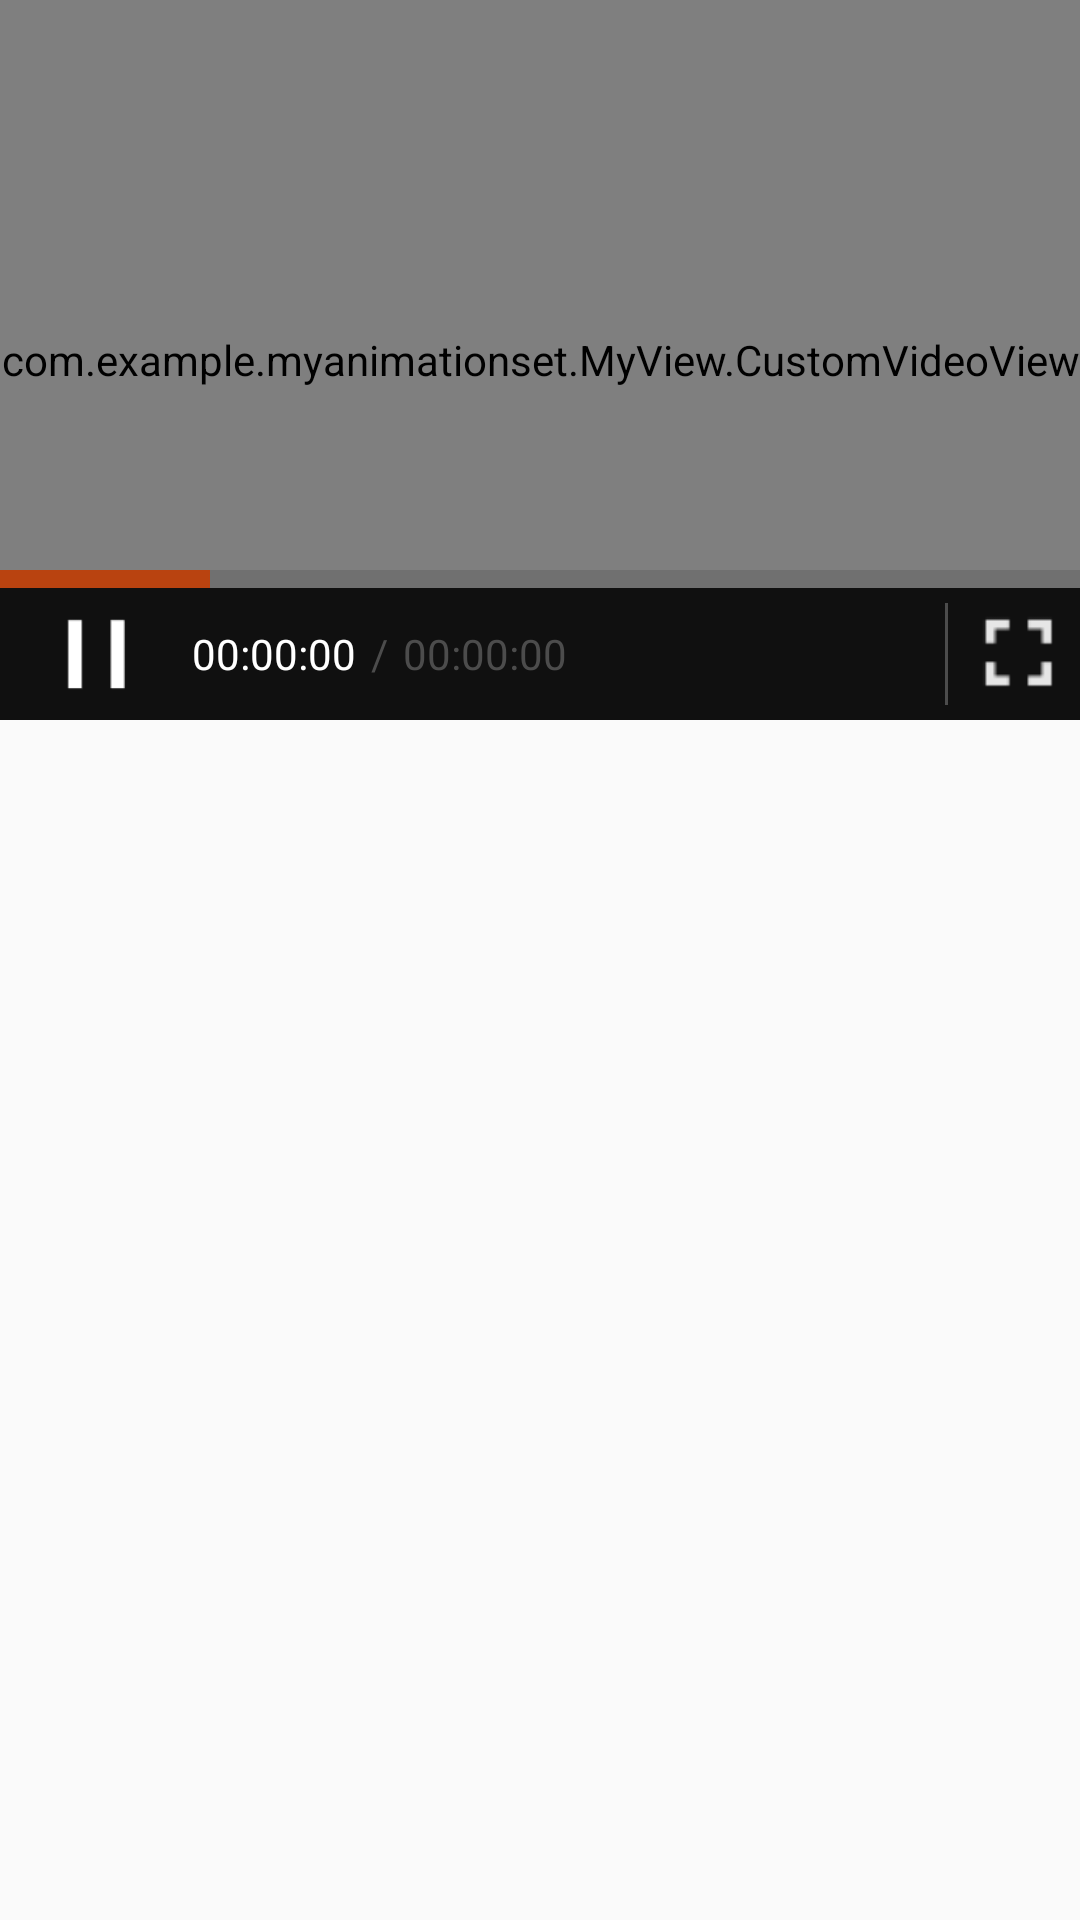

Screen size 1080px x 1920px. Icon name, then its box in pixels as {"left": x1, "top": y1, "right": x2, "bottom": y2}:
pause style: {"left": 67, "top": 619, "right": 125, "bottom": 689}
screen: {"left": 985, "top": 619, "right": 1053, "bottom": 687}
